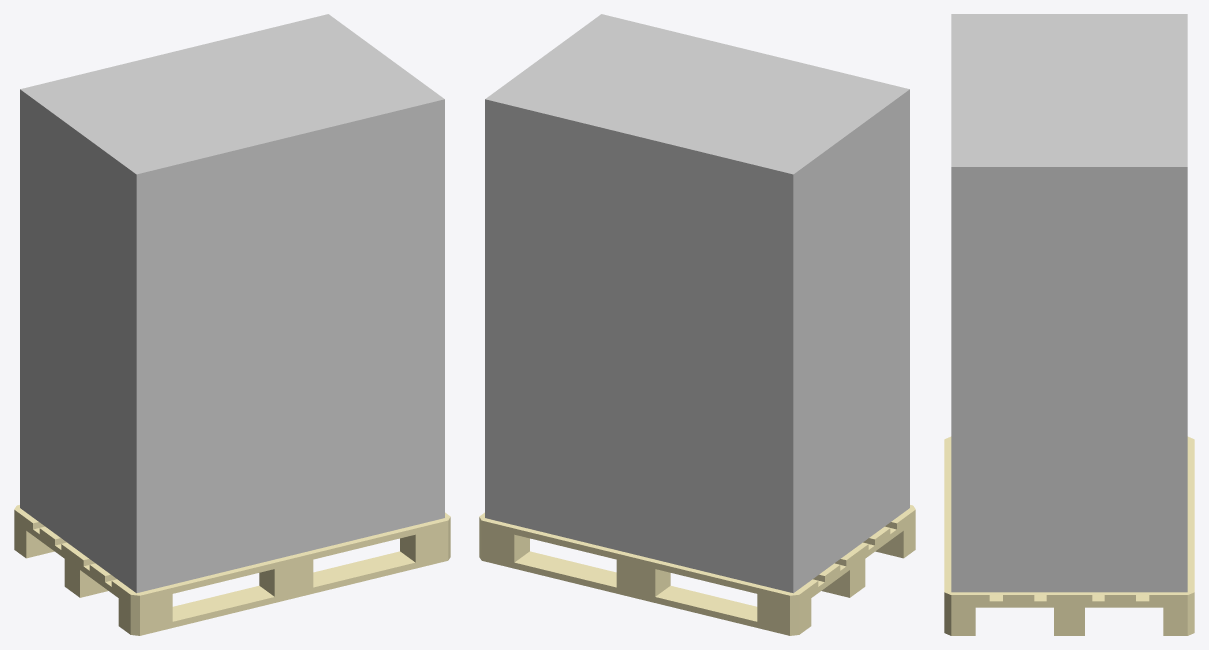
File: LydiaRx_pallet-with-cargo.gltf
3 views of the same model, side by side, from view 1: azimuth 30°, elevation 25°; view 2: azimuth 150°, elevation 25°; view 3: azimuth 270°, elevation 25° (orthographic).
Visible parts, largest first — view 1: Group; view 2: Group; view 3: Group.
Part boxes in pixels (bbox=[...]): Group: bbox=[14, 14, 450, 635]; Group: bbox=[479, 14, 915, 635]; Group: bbox=[944, 14, 1194, 635].
Size of the model in its own units: 1.2 by 1.64 by 0.8.
